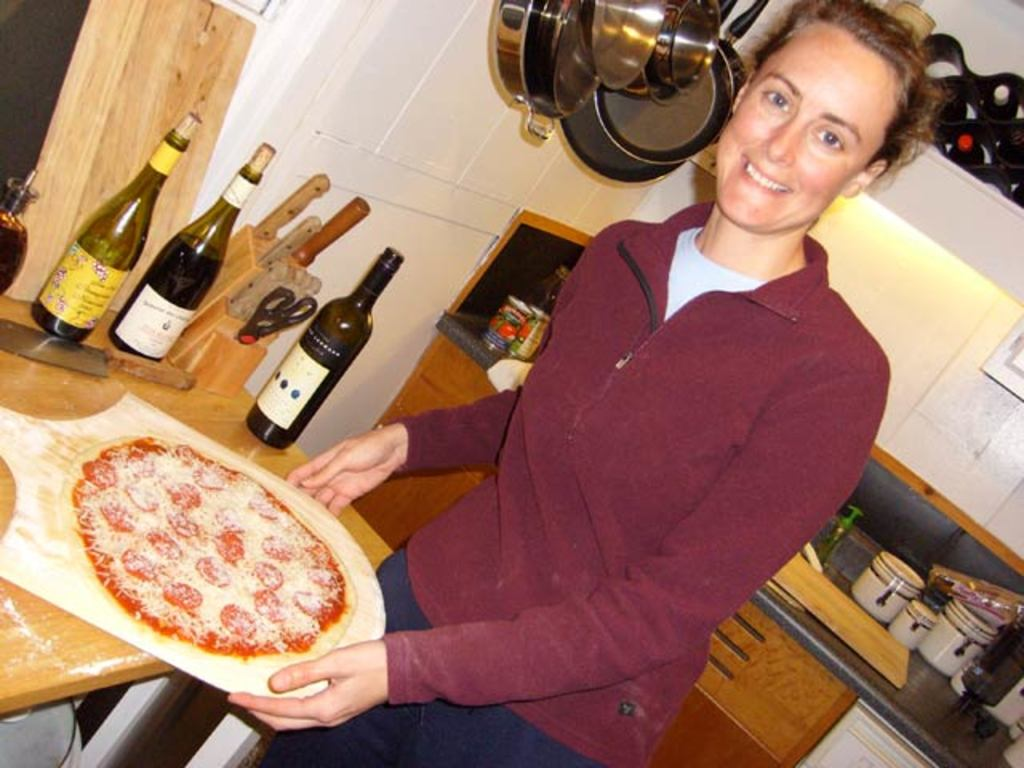pizza: (56, 430, 360, 662)
